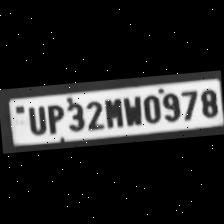0: (140, 90, 162, 124)
2: (83, 97, 105, 132)
3: (62, 100, 86, 134)
7: (177, 87, 200, 122)
8: (196, 85, 220, 120)
9: (158, 89, 181, 123)
M: (101, 95, 123, 131)
P: (42, 101, 65, 135)
U: (24, 103, 47, 136)
W: (121, 92, 143, 128)
